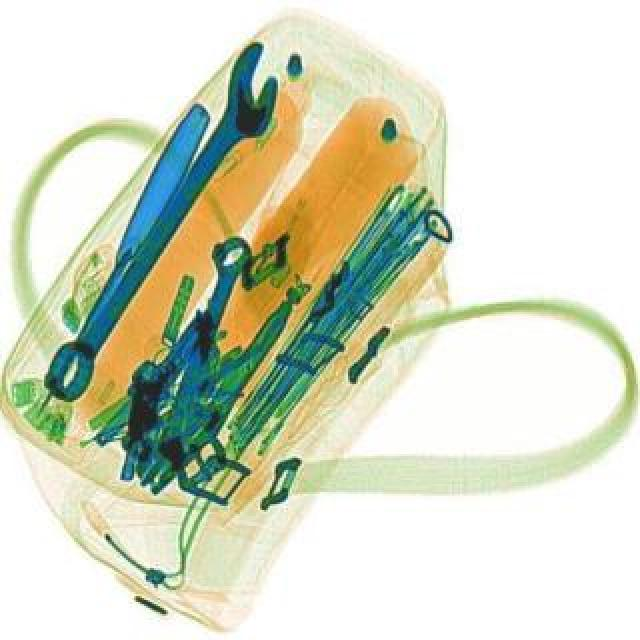gun: (112, 302, 214, 486)
knife: (20, 100, 216, 418)
scissors: (26, 36, 306, 412), (132, 228, 258, 484)
